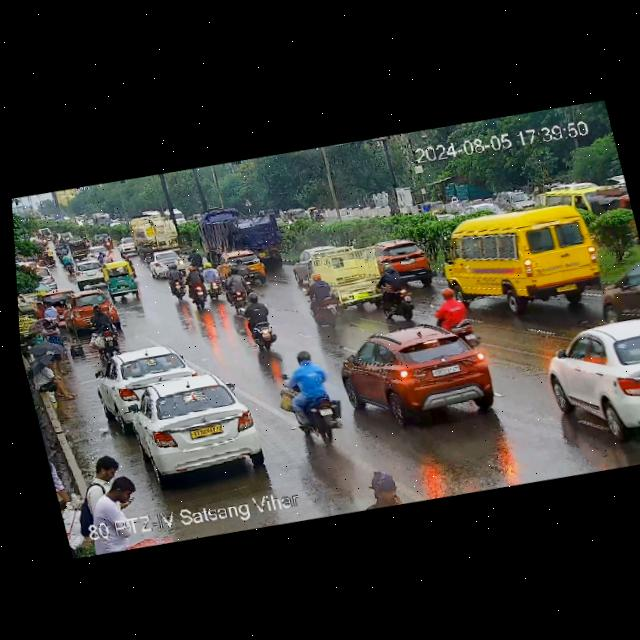bus: (433, 195, 612, 323)
car: (334, 311, 511, 430), (108, 364, 273, 491), (536, 309, 640, 444), (92, 339, 199, 415), (294, 235, 385, 308), (373, 236, 434, 280), (63, 288, 121, 332), (100, 260, 147, 302), (222, 247, 267, 285), (66, 259, 111, 290), (458, 197, 505, 221), (411, 197, 447, 223), (37, 265, 59, 293), (117, 237, 141, 258), (68, 239, 91, 260), (285, 206, 308, 224)
motorcycle: (269, 337, 347, 446), (428, 286, 482, 347), (236, 290, 282, 352), (300, 272, 341, 319), (368, 266, 412, 308), (217, 265, 255, 311), (86, 300, 125, 343), (182, 261, 212, 311), (198, 259, 228, 305), (163, 260, 194, 302), (308, 205, 327, 228), (41, 246, 57, 267), (62, 252, 75, 273), (102, 233, 114, 251), (99, 251, 114, 263), (55, 244, 65, 261), (59, 236, 68, 251)
person: (347, 458, 412, 513), (79, 475, 134, 533), (31, 355, 78, 403), (91, 451, 132, 492), (58, 494, 87, 544), (40, 298, 70, 334)
truck: (198, 201, 282, 272), (127, 211, 189, 261)
